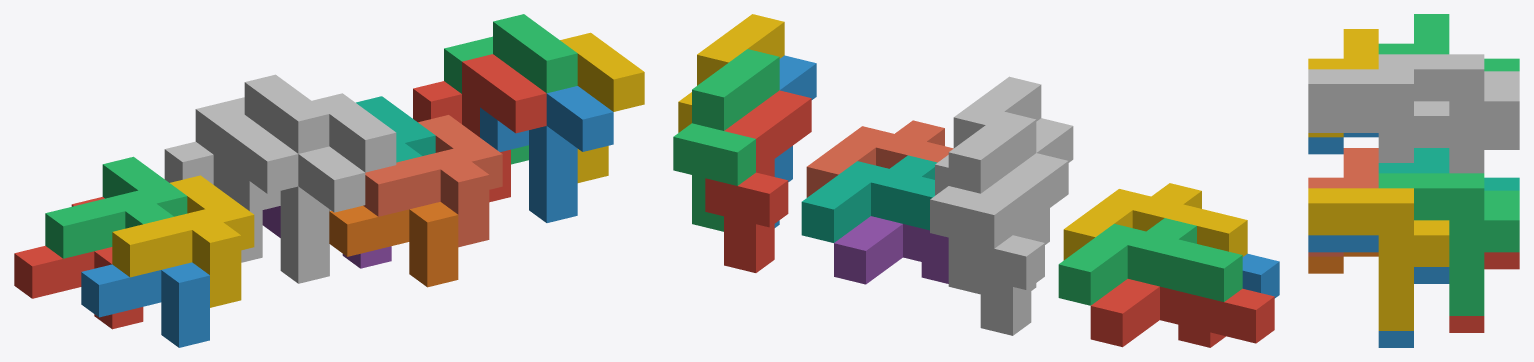
The model's file is tiling.obj.
3 views of the same model, side by side, from view 1: azimuth 30°, elevation 25°; view 2: azimuth 150°, elevation 25°; view 3: azimuth 270°, elevation 25° (orthographic). The views are drawn at different scales.
Parts seen in each view (by area): view 1: copy_1_domain_4, copy_1_domain_8, copy_2_domain_2, copy_2_domain_6, copy_1_domain_3, copy_2_domain_1, copy_2_domain_5, copy_1_domain_2, copy_1_domain_6, copy_2_domain_7, copy_2_domain_3, copy_2_domain_8 (+4 smaller); view 2: copy_1_domain_3, copy_2_domain_3, copy_2_domain_7, copy_2_domain_1, copy_2_domain_5, copy_1_domain_1, copy_1_domain_7, copy_1_domain_4, copy_1_domain_5, copy_1_domain_8, copy_2_domain_4, copy_2_domain_8 (+3 smaller); view 3: copy_2_domain_8, copy_2_domain_7, copy_2_domain_3, copy_2_domain_4, copy_2_domain_6, copy_1_domain_3, copy_1_domain_4, copy_1_domain_8, copy_1_domain_7, copy_2_domain_5, copy_2_domain_2, copy_1_domain_2 (+2 smaller).
Boxes of the visible parts, x1=… form: copy_1_domain_4: x1=112, y1=175, x2=254, y2=307; copy_1_domain_8: x1=363, y1=115, x2=502, y2=247; copy_2_domain_2: x1=231, y1=146, x2=365, y2=283; copy_2_domain_6: x1=480, y1=86, x2=613, y2=222; copy_1_domain_3: x1=45, y1=156, x2=187, y2=258; copy_2_domain_1: x1=164, y1=114, x2=298, y2=262; copy_2_domain_5: x1=413, y1=54, x2=546, y2=202; copy_1_domain_2: x1=81, y1=262, x2=209, y2=347; copy_1_domain_6: x1=329, y1=202, x2=458, y2=287; copy_2_domain_7: x1=444, y1=14, x2=577, y2=164; copy_2_domain_3: x1=195, y1=74, x2=329, y2=154; copy_2_domain_8: x1=560, y1=32, x2=644, y2=182; copy_1_domain_3: x1=1058, y1=218, x2=1242, y2=305; copy_2_domain_3: x1=930, y1=111, x2=1036, y2=294; copy_2_domain_7: x1=673, y1=49, x2=779, y2=231; copy_2_domain_1: x1=962, y1=153, x2=1068, y2=335; copy_2_domain_5: x1=705, y1=90, x2=811, y2=272; copy_1_domain_1: x1=1090, y1=279, x2=1274, y2=347; copy_1_domain_7: x1=801, y1=155, x2=937, y2=242; copy_1_domain_4: x1=1063, y1=183, x2=1247, y2=260; copy_1_domain_5: x1=834, y1=216, x2=948, y2=284; copy_1_domain_8: x1=806, y1=120, x2=953, y2=197; copy_2_domain_4: x1=935, y1=76, x2=1041, y2=195; copy_2_domain_8: x1=678, y1=14, x2=784, y2=132; copy_2_domain_8: x1=1308, y1=188, x2=1449, y2=330; copy_2_domain_7: x1=1378, y1=173, x2=1519, y2=315; copy_2_domain_3: x1=1378, y1=54, x2=1519, y2=173; copy_2_domain_4: x1=1308, y1=69, x2=1449, y2=162; copy_2_domain_6: x1=1308, y1=235, x2=1449, y2=347; copy_1_domain_3: x1=1378, y1=14, x2=1519, y2=71; copy_1_domain_4: x1=1308, y1=29, x2=1378, y2=137; copy_1_domain_8: x1=1308, y1=148, x2=1378, y2=256; copy_1_domain_7: x1=1378, y1=148, x2=1519, y2=190; copy_2_domain_5: x1=1449, y1=252, x2=1519, y2=332; copy_2_domain_2: x1=1308, y1=116, x2=1378, y2=132; copy_1_domain_2: x1=1308, y1=133, x2=1378, y2=154.
Bounding box in the file's own units: 18 × 5 × 6.
